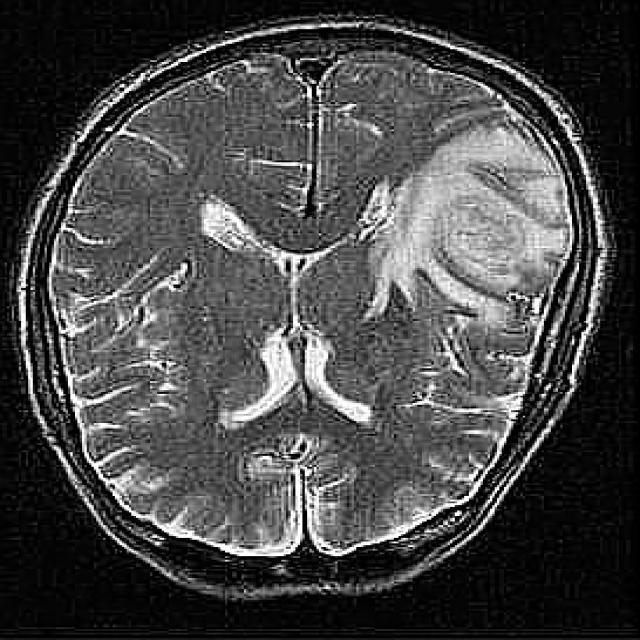Tumor-Cell: (378, 106, 572, 316)
